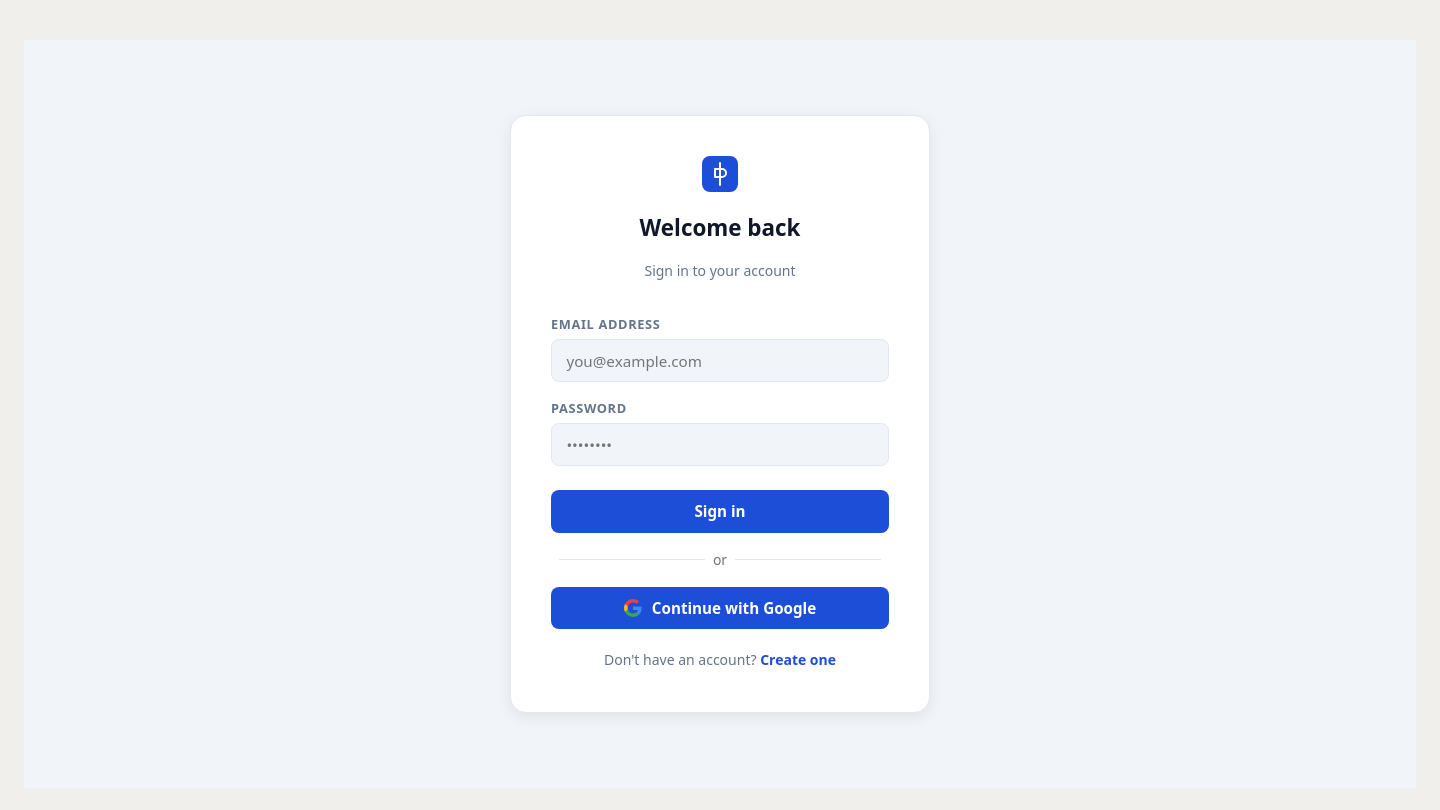
Test case: Login Page — error handling › disables button and shows Signing in… while loading
The image size is (1440, 810).
Type "user@test.com" into the field with placeholder "you@example.com" at point(720, 361), box top-left (551, 339), bottom-right (889, 382)
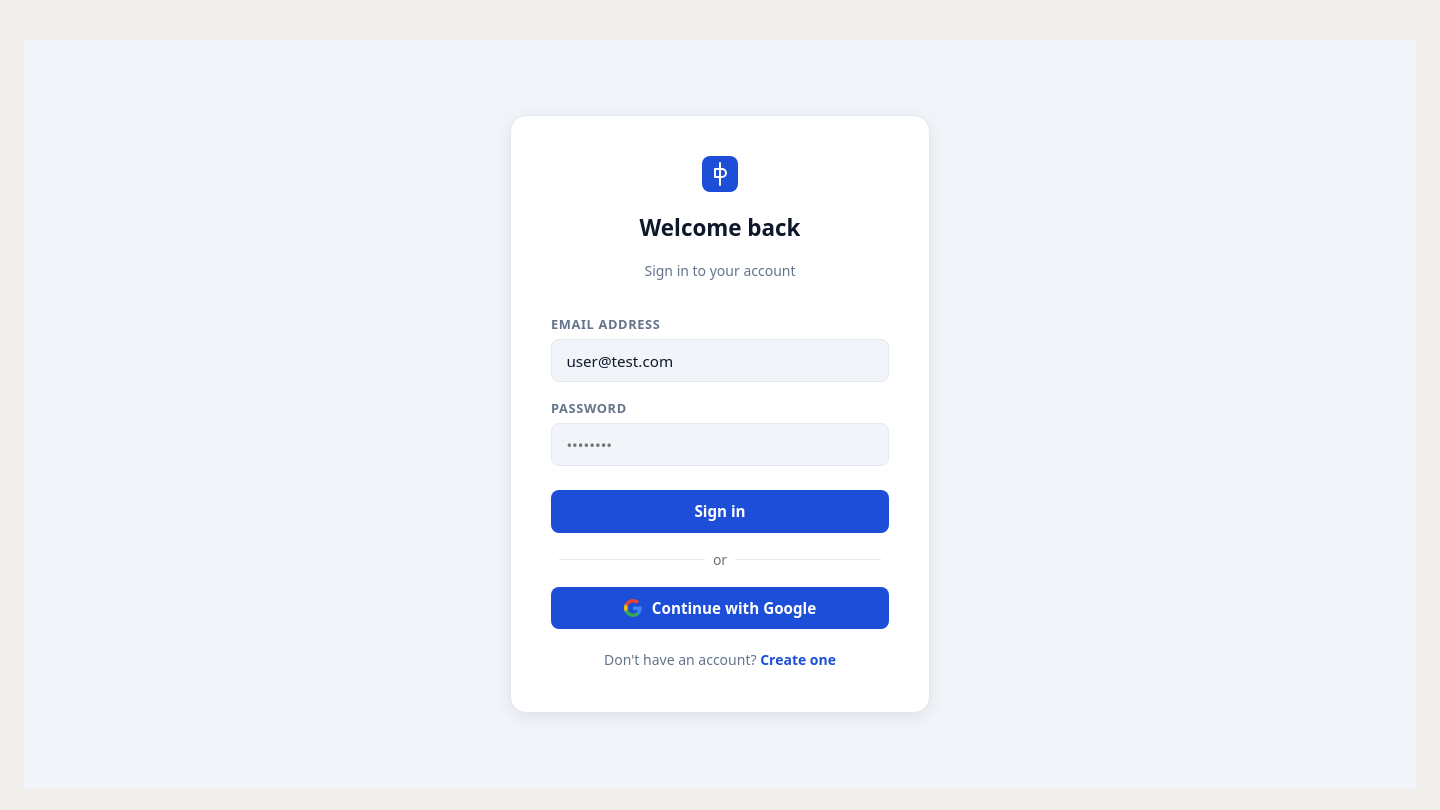
Type "password123" into the password field with placeholder "••••••••" at point(720, 445), box top-left (551, 424), bottom-right (889, 466)
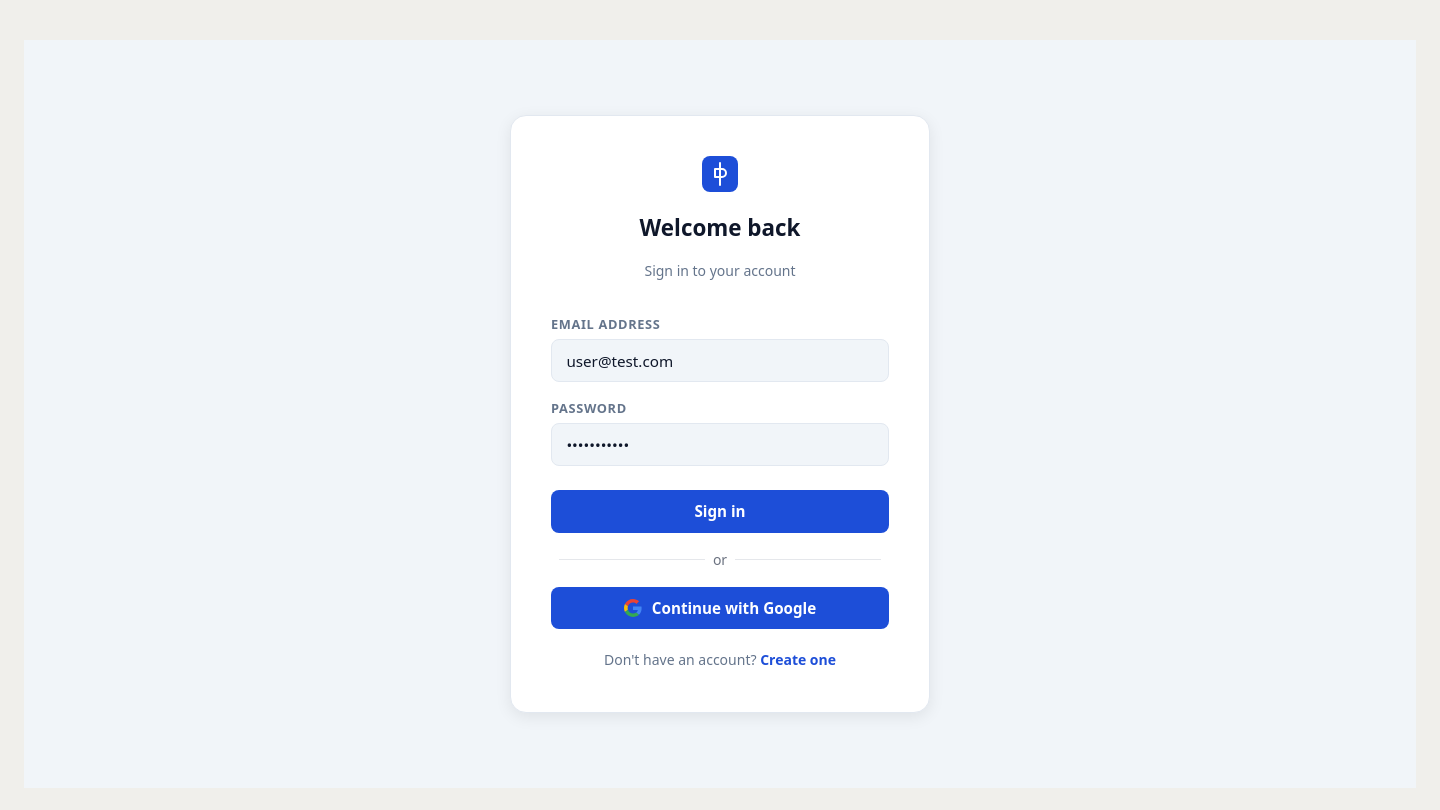
Click the button "Sign in" at point(720, 512), box top-left (551, 490), bottom-right (889, 533)
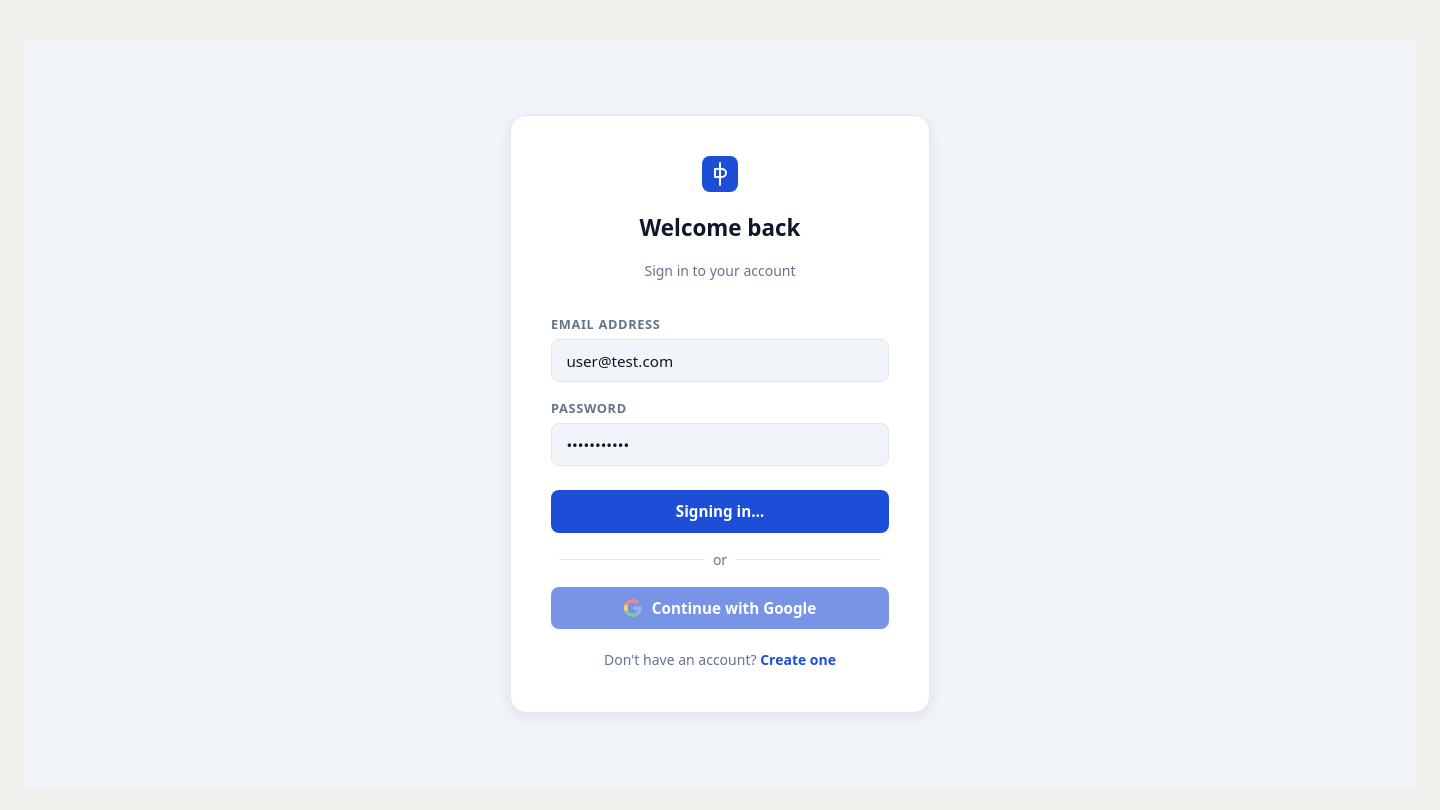
Result: the button "Signing in…" is disabled at top-left (551, 490), bottom-right (889, 533)
